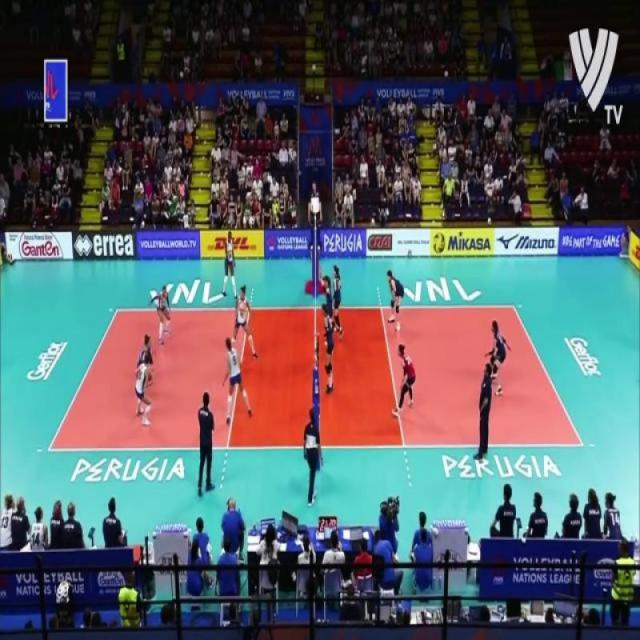volleyball: (433, 233, 445, 253), (152, 346, 156, 361)
